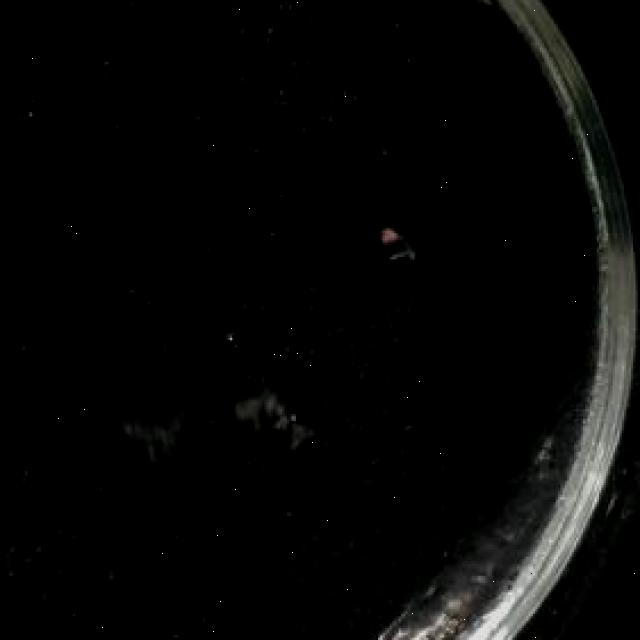Microplastic: (205, 366, 314, 469), (100, 395, 200, 473)
